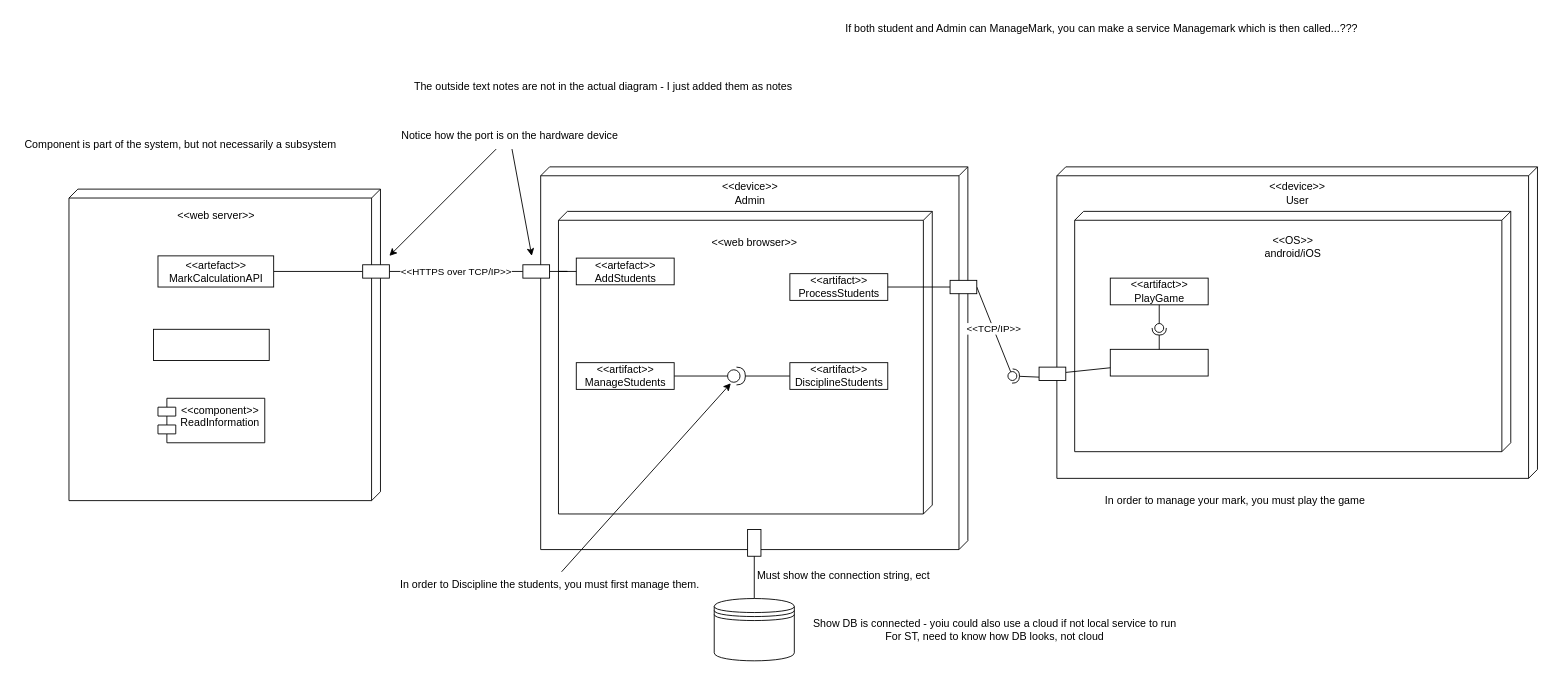
Some shapes in this 1553 by 676 pixel diagram are drawn without their labels. Here are the shapes that lost their labels. From the top down, the centre of each, then its label:
At point 211,344: "<<artefact>> CaptureInfo".
At point 1158,362: "<<artifact>> MarksManagement".
At point 753,629: "Database".
